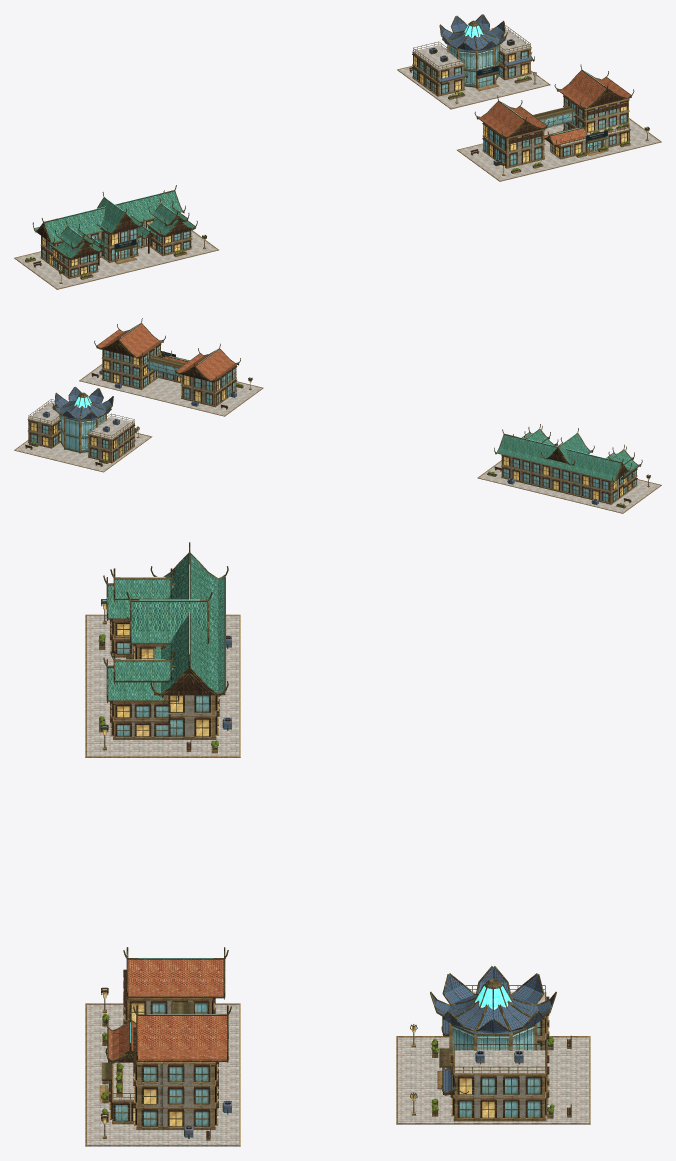
The model's file is research-quarter.glb.
3 views of the same model, one above another, from view 1: azimuth 30°, elevation 25°; view 2: azimuth 150°, elevation 25°; view 3: azimuth 270°, elevation 25° (orthographic). The views are drawn at different scales.
Parts seen in each view (by area): view 1: A_Naga_Courtyard_jade_tiles, A_Naga_Courtyard_bronze, C_Monsoon_Terraces_bronze, C_Monsoon_Terraces_clay_tiles, C_Monsoon_Terraces_pavers, B_Lotus_Nexus_pavers, A_Naga_Courtyard_pavers, B_Lotus_Nexus_bronze, C_Monsoon_Terraces_teak, A_Naga_Courtyard_teak, C_Monsoon_Terraces_limestone, B_Lotus_Nexus_indigo_tiles (+8 smaller); view 2: A_Naga_Courtyard_jade_tiles, C_Monsoon_Terraces_bronze, B_Lotus_Nexus_pavers, A_Naga_Courtyard_bronze, C_Monsoon_Terraces_pavers, B_Lotus_Nexus_bronze, C_Monsoon_Terraces_clay_tiles, A_Naga_Courtyard_pavers, C_Monsoon_Terraces_teak, A_Naga_Courtyard_teak, B_Lotus_Nexus_glass, C_Monsoon_Terraces_limestone (+11 smaller); view 3: A_Naga_Courtyard_jade_tiles, B_Lotus_Nexus_pavers, C_Monsoon_Terraces_clay_tiles, C_Monsoon_Terraces_pavers, A_Naga_Courtyard_pavers, A_Naga_Courtyard_bronze, B_Lotus_Nexus_bronze, C_Monsoon_Terraces_bronze, B_Lotus_Nexus_indigo_tiles, C_Monsoon_Terraces_limestone, B_Lotus_Nexus_limestone, B_Lotus_Nexus_glass (+10 smaller).
Part boxes in pixels (bbox=[...]): A_Naga_Courtyard_jade_tiles: bbox=[35, 191, 205, 271]; A_Naga_Courtyard_bronze: bbox=[32, 185, 206, 282]; C_Monsoon_Terraces_bronze: bbox=[474, 64, 649, 174]; C_Monsoon_Terraces_clay_tiles: bbox=[478, 71, 648, 164]; C_Monsoon_Terraces_pavers: bbox=[457, 119, 659, 181]; B_Lotus_Nexus_pavers: bbox=[399, 29, 549, 109]; A_Naga_Courtyard_pavers: bbox=[14, 230, 218, 289]; B_Lotus_Nexus_bronze: bbox=[410, 14, 536, 101]; C_Monsoon_Terraces_teak: bbox=[470, 89, 648, 166]; A_Naga_Courtyard_teak: bbox=[33, 212, 203, 276]; C_Monsoon_Terraces_limestone: bbox=[457, 97, 661, 181]; B_Lotus_Nexus_indigo_tiles: bbox=[438, 15, 532, 82]; A_Naga_Courtyard_jade_tiles: bbox=[497, 430, 650, 480]; C_Monsoon_Terraces_bronze: bbox=[92, 318, 252, 407]; B_Lotus_Nexus_pavers: bbox=[15, 402, 151, 472]; A_Naga_Courtyard_bronze: bbox=[494, 424, 650, 502]; C_Monsoon_Terraces_pavers: bbox=[79, 365, 262, 415]; B_Lotus_Nexus_bronze: bbox=[25, 386, 139, 465]; C_Monsoon_Terraces_clay_tiles: bbox=[97, 324, 251, 380]; A_Naga_Courtyard_pavers: bbox=[478, 461, 660, 513]; C_Monsoon_Terraces_teak: bbox=[91, 340, 252, 408]; A_Naga_Courtyard_teak: bbox=[494, 438, 649, 502]; B_Lotus_Nexus_glass: bbox=[31, 414, 133, 459]; C_Monsoon_Terraces_limestone: bbox=[79, 345, 263, 416]; A_Naga_Courtyard_jade_tiles: bbox=[102, 554, 224, 729]; B_Lotus_Nexus_pavers: bbox=[398, 991, 588, 1124]; C_Monsoon_Terraces_clay_tiles: bbox=[102, 959, 226, 1118]; C_Monsoon_Terraces_pavers: bbox=[87, 1004, 239, 1146]; A_Naga_Courtyard_pavers: bbox=[86, 615, 239, 757]; A_Naga_Courtyard_bronze: bbox=[101, 542, 228, 747]; B_Lotus_Nexus_bronze: bbox=[410, 966, 571, 1118]; C_Monsoon_Terraces_bronze: bbox=[101, 947, 231, 1138]; B_Lotus_Nexus_indigo_tiles: bbox=[432, 967, 554, 1092]; C_Monsoon_Terraces_limestone: bbox=[85, 998, 240, 1146]; B_Lotus_Nexus_limestone: bbox=[396, 992, 590, 1124]; B_Lotus_Nexus_glass: bbox=[452, 1021, 546, 1117].
Bounding box in the file's own units: 194 × 17.93 × 78.
18 materials, 18 textured.
